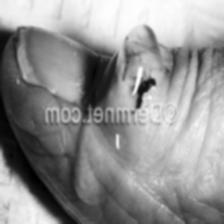Toxin: (115, 40, 161, 122)
